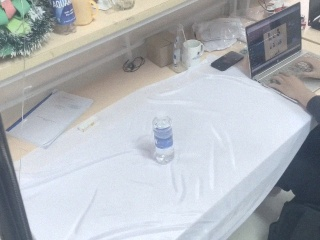bottle: (152, 113, 175, 165), (50, 1, 77, 35), (172, 24, 187, 73)
cup: (72, 1, 99, 26), (182, 39, 204, 68)
phone: (210, 50, 244, 72)
